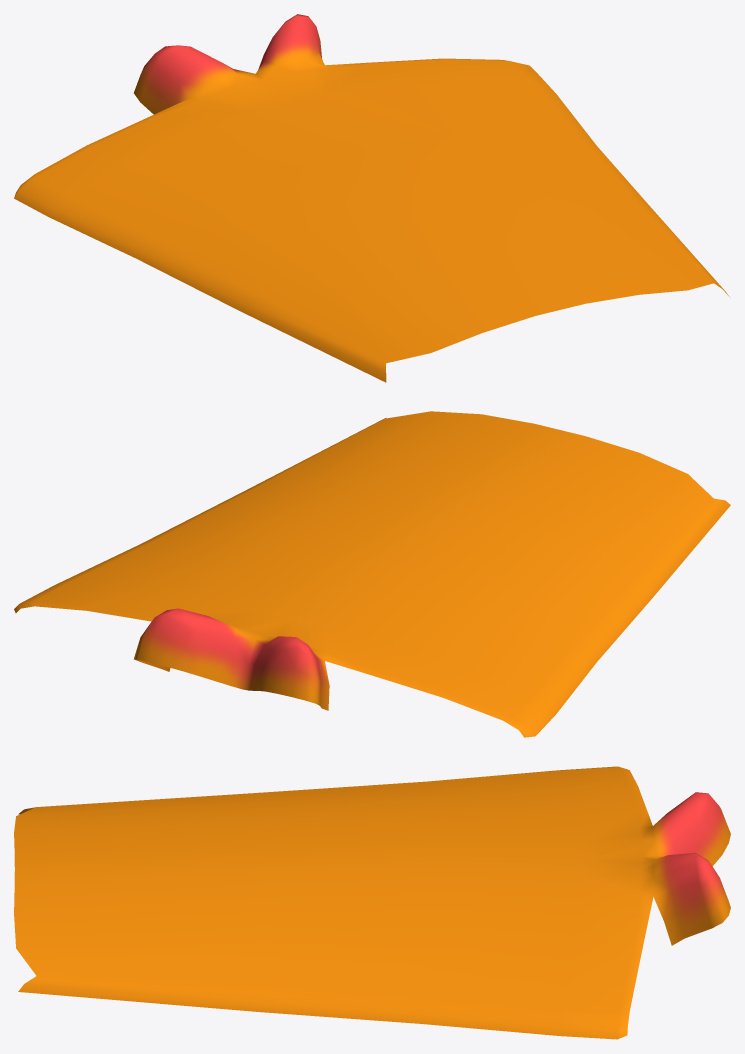
File: DuckBeak.fbx
3 views of the same model, one above another, from view 1: azimuth 30°, elevation 25°; view 2: azimuth 150°, elevation 25°; view 3: azimuth 270°, elevation 25° (orthographic). The views are drawn at different scales.
Visible parts, largest first — view 1: Beak; view 2: Beak; view 3: Beak.
Part boxes in pixels (x1=…): Beak: x1=14, y1=14, x2=729, y2=382; Beak: x1=14, y1=411, x2=730, y2=737; Beak: x1=14, y1=766, x2=730, y2=1039.
Size of the model in its own units: 76.95 by 10.89 by 86.79.
